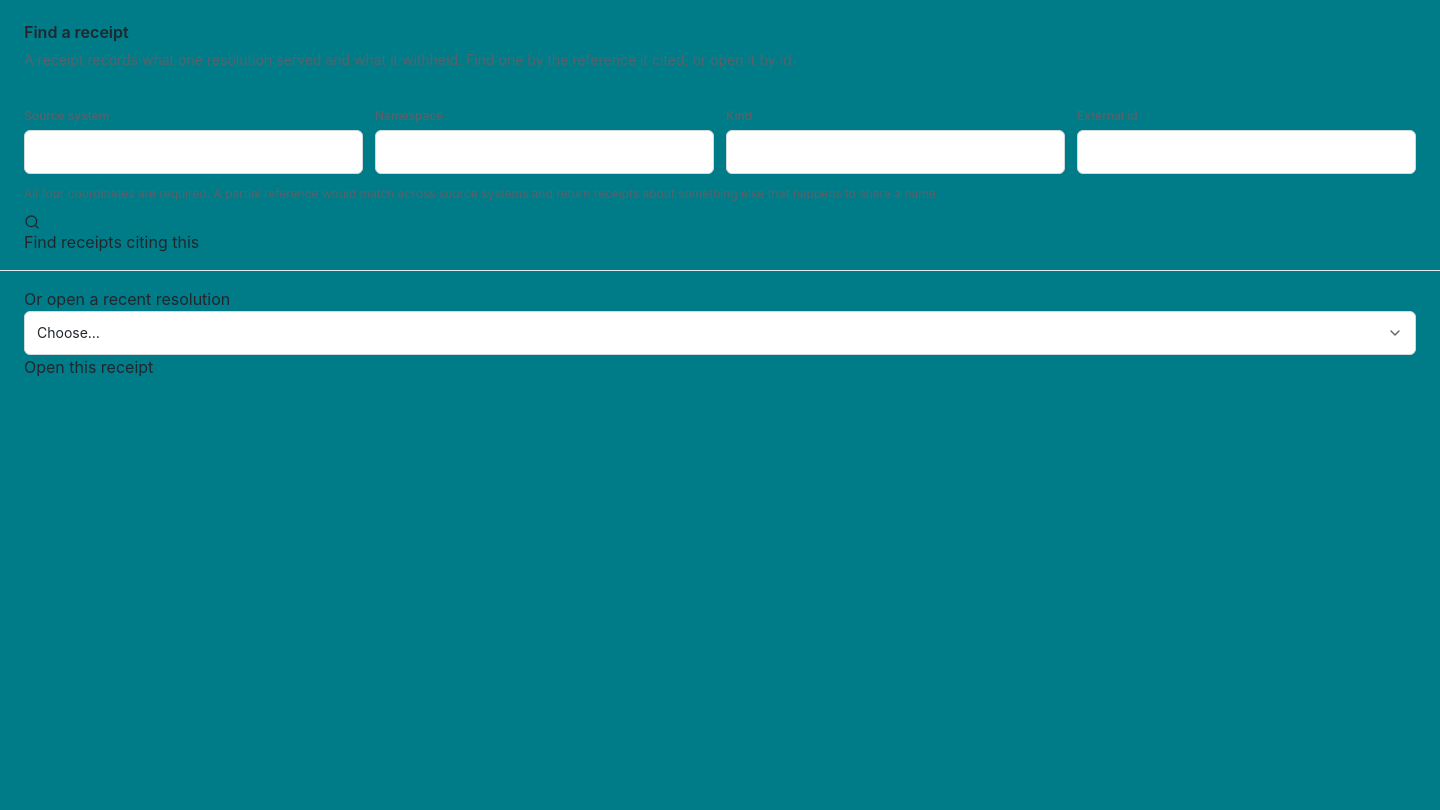
Test: ReceiptExplorerPanel › keeps a withheld receipt distinct, and offers no re-read
This screenshot has width=1440, height=810.
What coordinates should you click on to do the following:
click the button with aria-label "Or open a recent resolution"
I would click on:
 (68, 332)
Its box is [24, 311, 1416, 355].
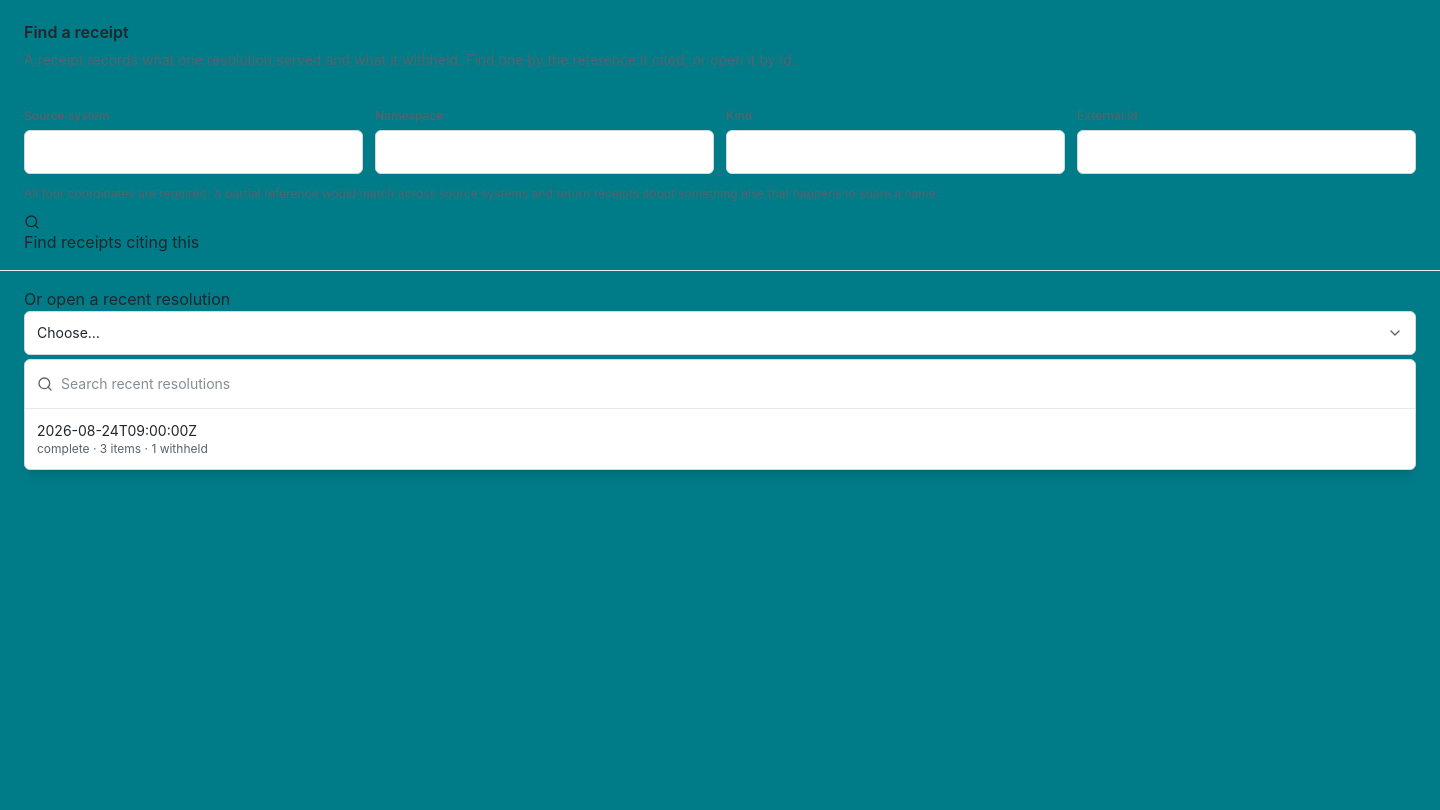
What coordinates should you click on to do the following:
click the option "2026-08-24T09:00:00Z complete · 3 items · 1 withheld"
I would click on:
 (117, 430)
Its box is [25, 413, 1415, 465].
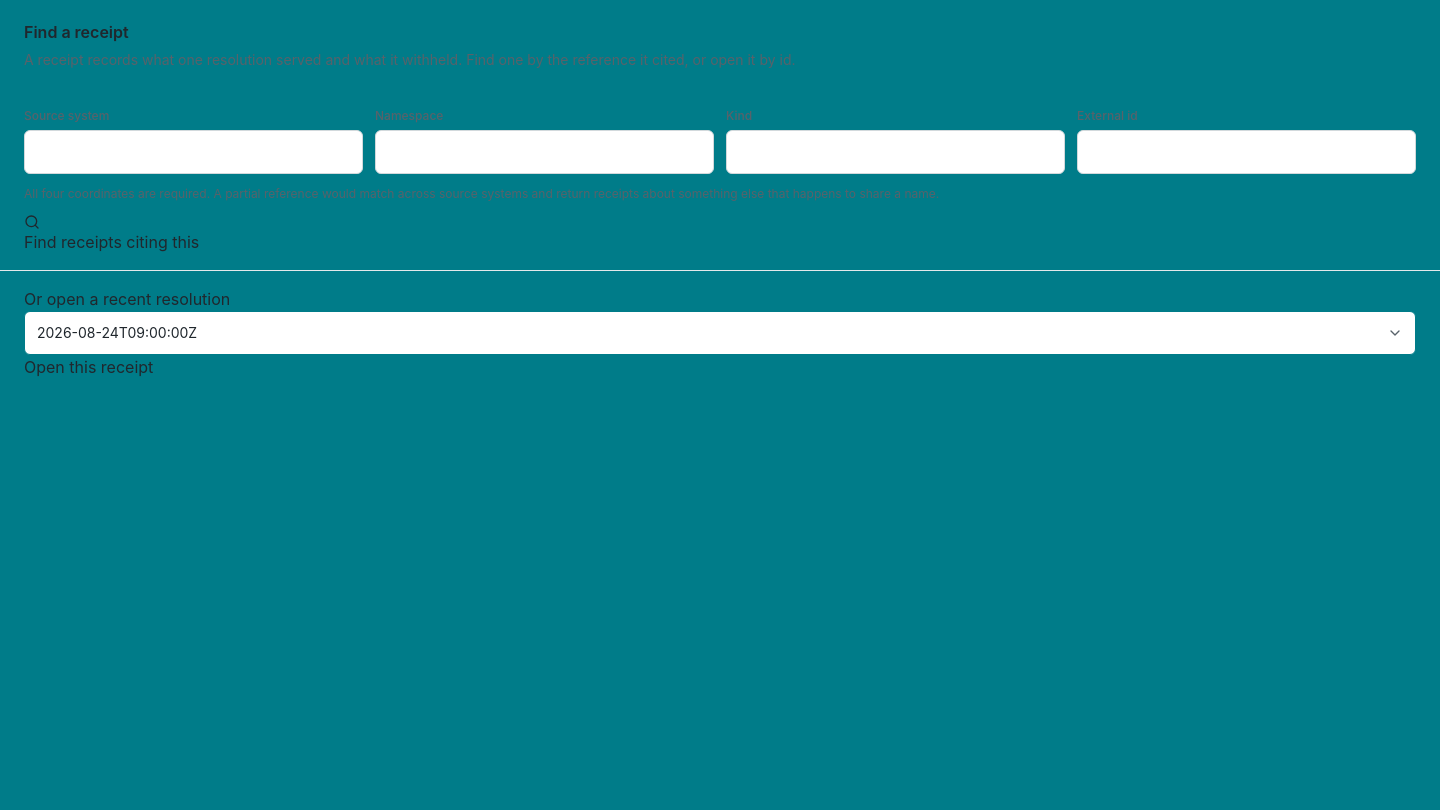
What coordinates should you click on to do the following:
click the button "Open this receipt"
I would click on:
 (89, 367)
Its box is [24, 355, 153, 379].
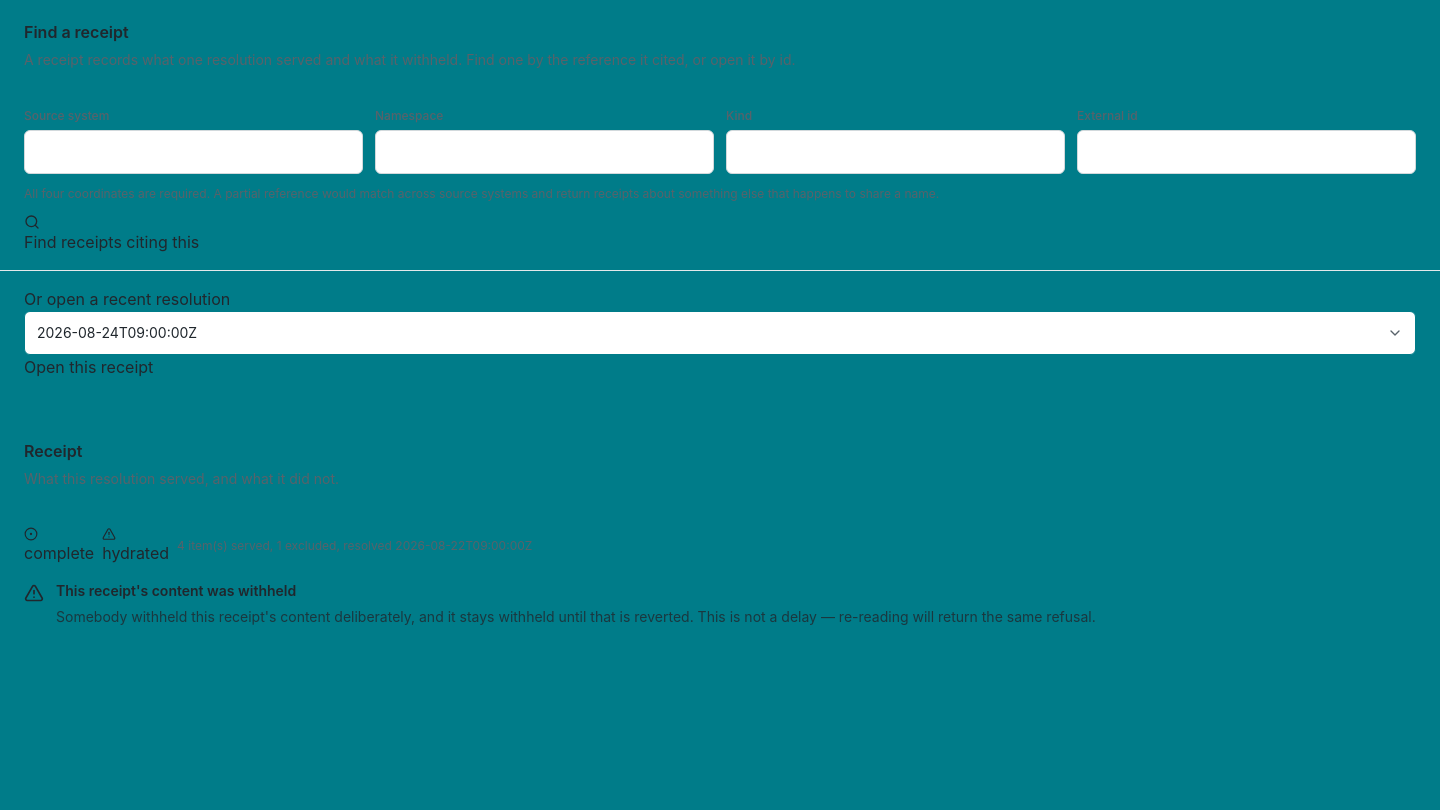
Expected: the text "This receipt's content was withheld" is shown, [56, 582, 296, 599]
